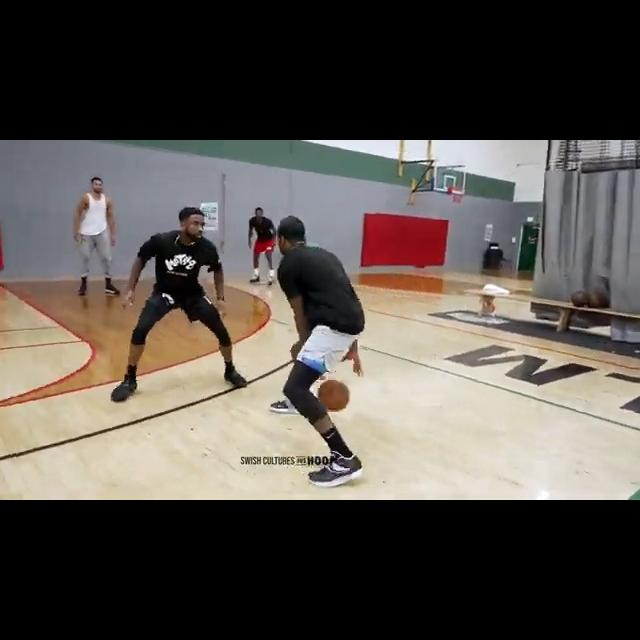basketball: (317, 379, 352, 412)
hoop: (450, 185, 465, 206)
